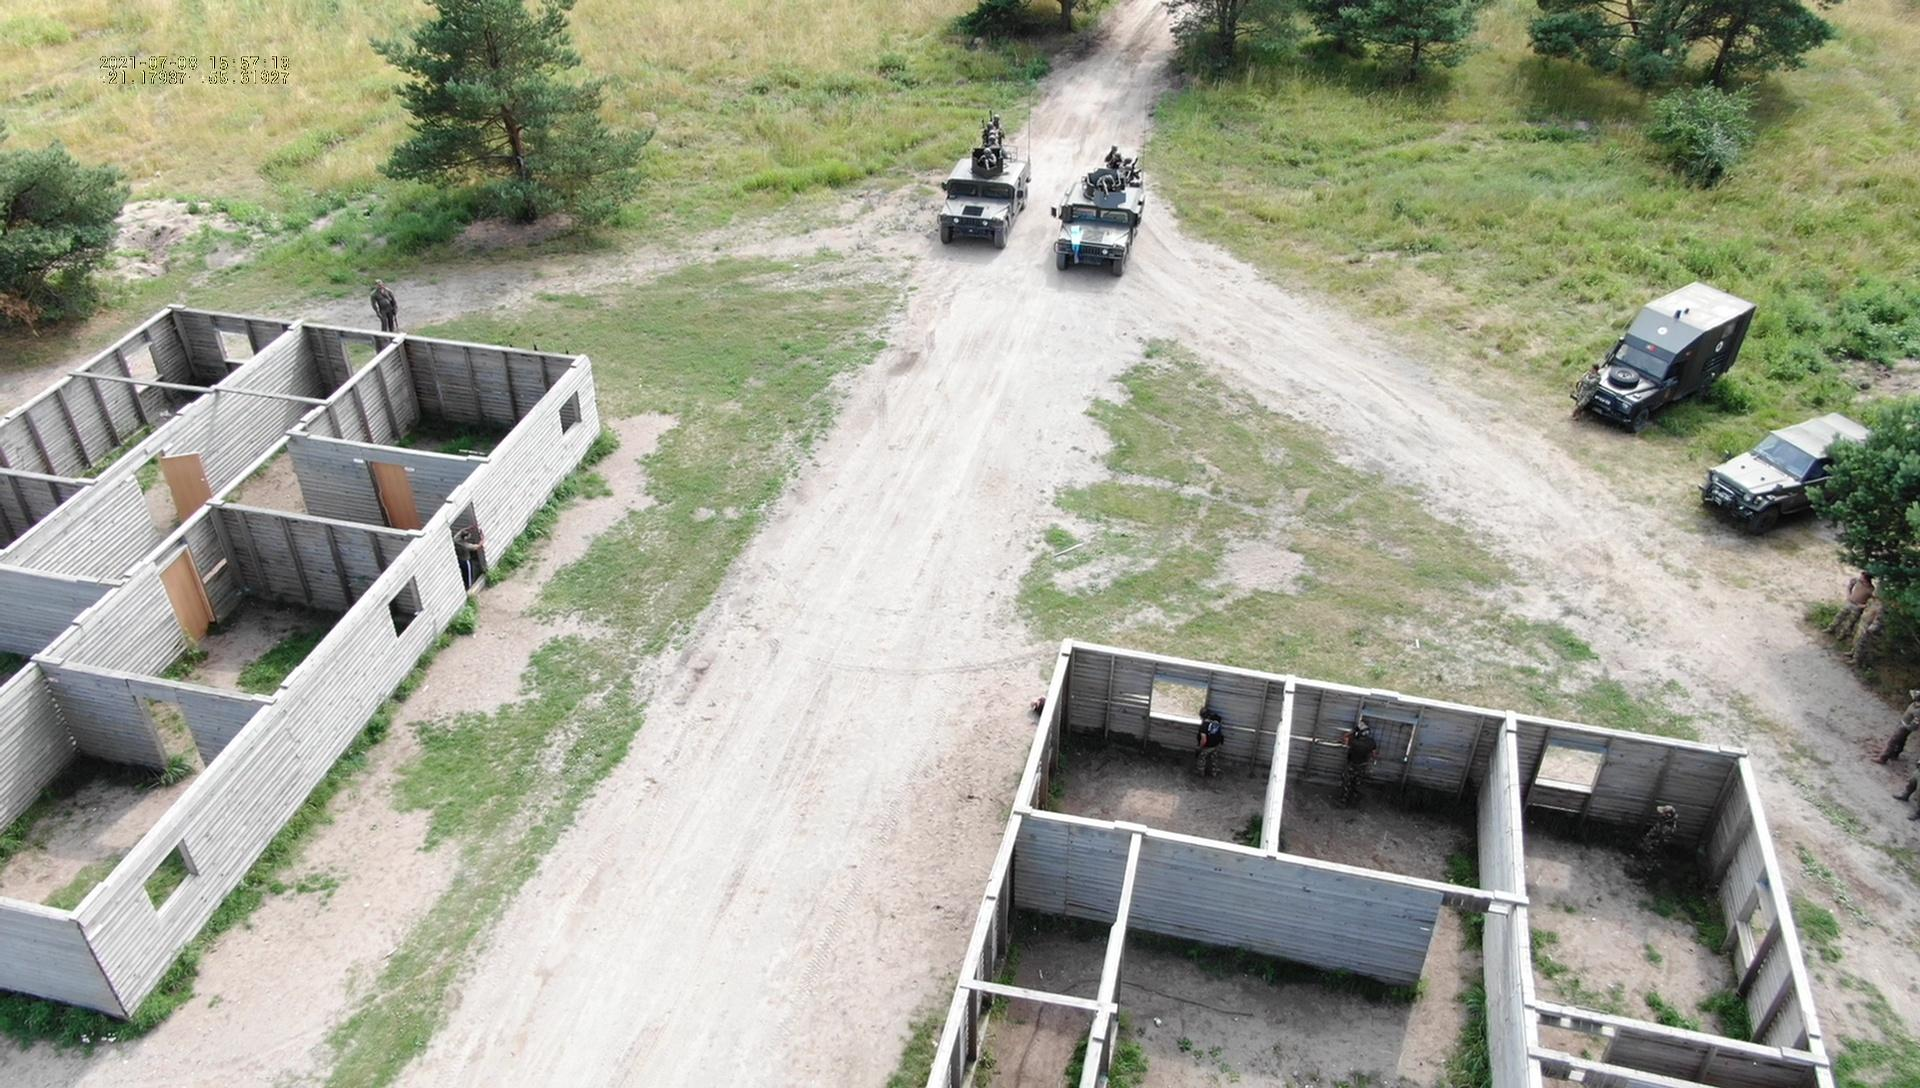Soldier: (1648, 814, 1714, 905), (1333, 723, 1385, 826), (1873, 677, 1920, 783), (1833, 560, 1873, 655), (1851, 588, 1887, 680), (1571, 361, 1605, 437), (367, 276, 407, 338), (972, 146, 996, 183)
